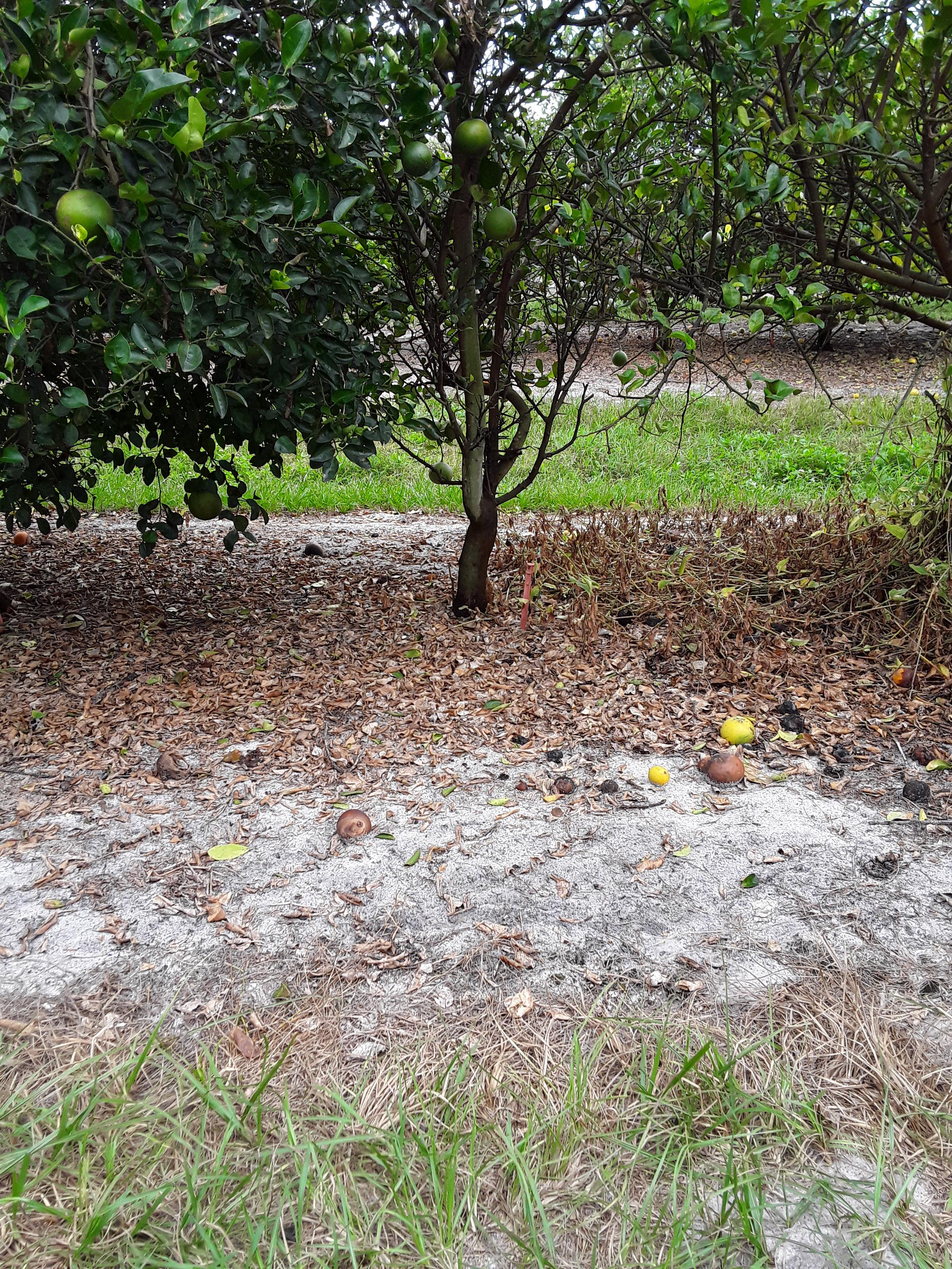fruit_on_ground: (54, 184, 125, 250), (506, 28, 556, 73), (453, 114, 492, 163), (431, 38, 471, 83), (482, 199, 518, 248), (186, 484, 222, 522), (400, 140, 434, 180), (634, 35, 674, 63), (428, 459, 455, 489), (420, 416, 446, 441), (698, 228, 724, 253), (444, 415, 466, 441), (611, 348, 632, 372), (630, 297, 651, 319), (626, 284, 644, 303), (653, 86, 669, 104), (587, 301, 600, 321)
fruit_on_tree: (334, 806, 378, 843), (705, 752, 747, 786), (719, 714, 757, 747), (901, 778, 935, 807), (781, 712, 810, 739), (892, 664, 920, 688), (552, 774, 576, 799), (648, 762, 670, 789), (910, 743, 934, 767), (304, 539, 328, 561), (614, 605, 634, 629), (696, 755, 717, 774), (598, 780, 622, 796), (510, 731, 530, 750), (12, 528, 30, 549), (546, 747, 565, 764), (646, 614, 667, 629)
